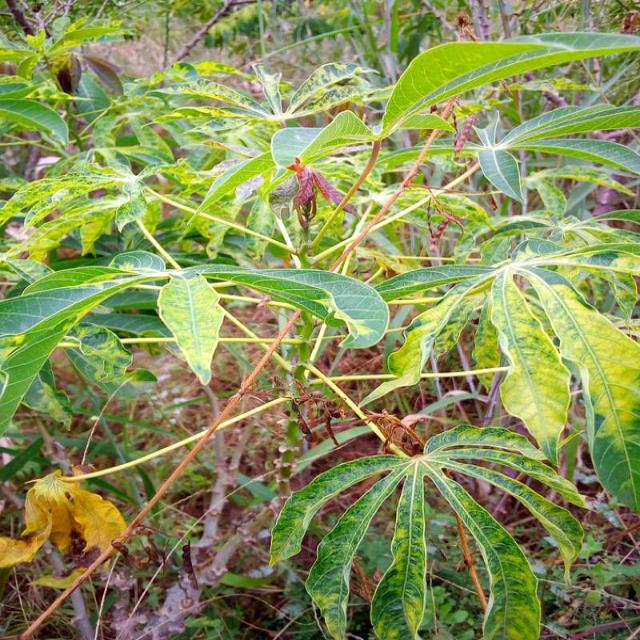Mosaico: (316, 429, 610, 600), (30, 239, 317, 396), (397, 252, 636, 435), (139, 51, 387, 120), (0, 456, 138, 556), (15, 188, 171, 243)
